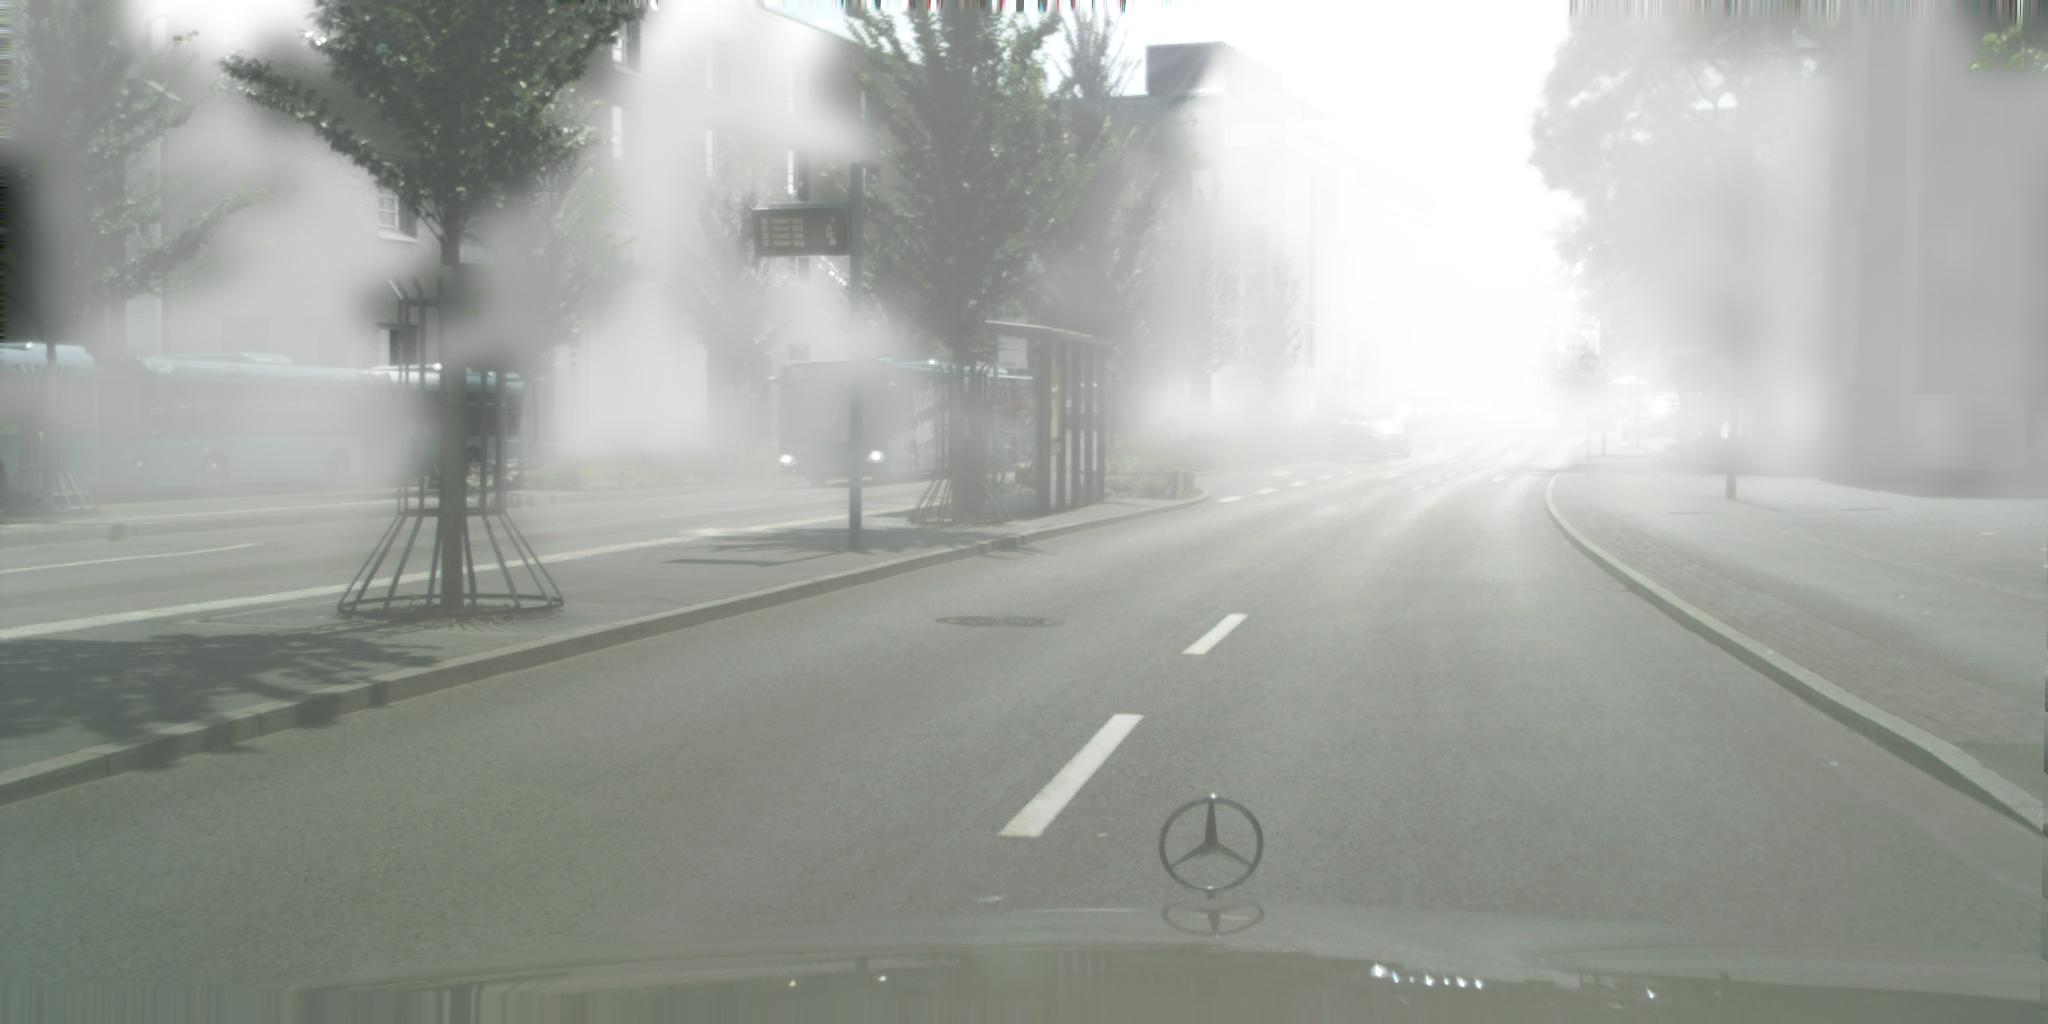bus: (57, 344, 533, 504), (758, 353, 993, 488), (1, 341, 101, 508)
car: (1328, 408, 1390, 465), (1366, 418, 1412, 460), (1624, 414, 1663, 441), (1533, 408, 1565, 432), (1588, 410, 1618, 432)
